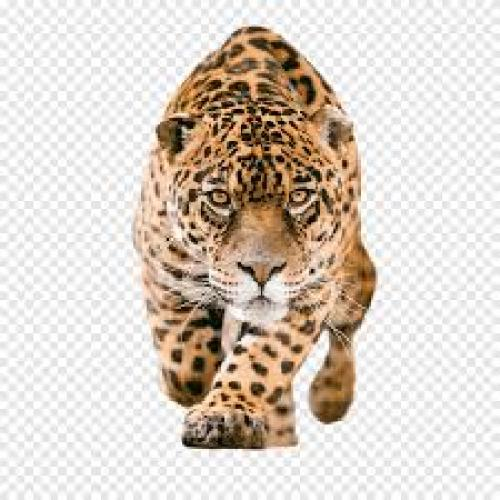jaguar_not-endangered: (132, 29, 379, 449)
